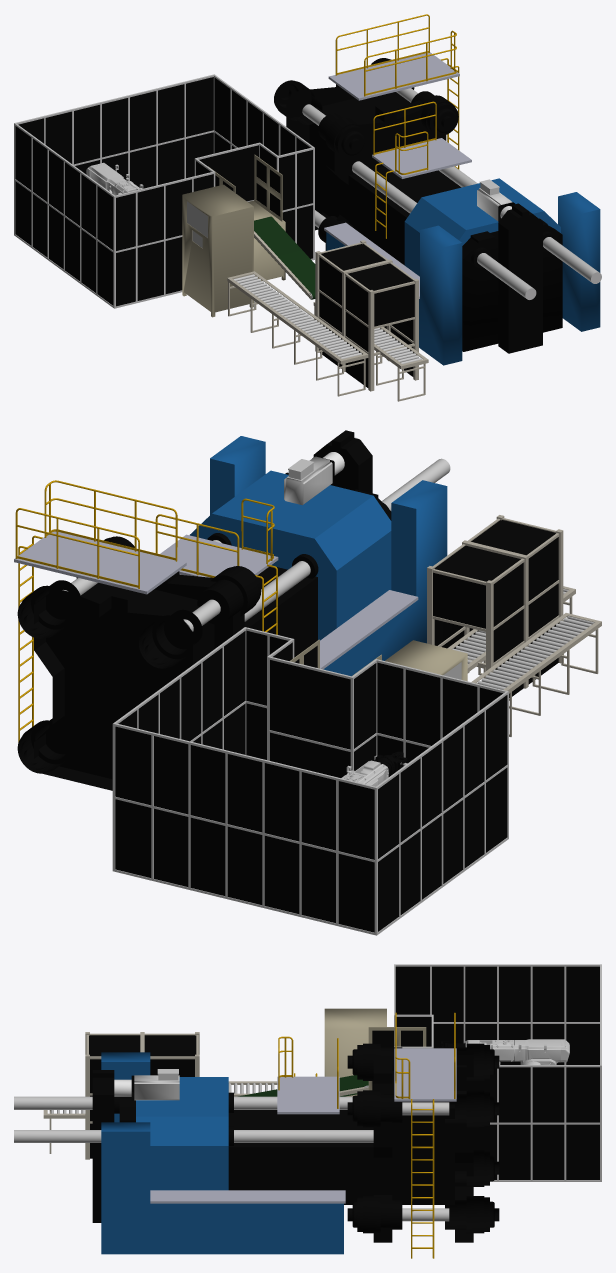
3 renders of one model, top to bottom at view 1: azimuth 30°, elevation 25°; view 2: azimuth 150°, elevation 25°; view 3: azimuth 270°, elevation 25°, orthographic. The views are drawn at different scales.
Parts seen in each view (by area): view 1: machine 01; view 2: machine 01; view 3: machine 01.
Part boxes in pixels (x1,y1,x2,y2): machine 01: (14, 14, 601, 401); machine 01: (14, 430, 601, 935); machine 01: (14, 964, 601, 1258).
Size of the model in its own units: 11.34 by 5.81 by 15.76.
